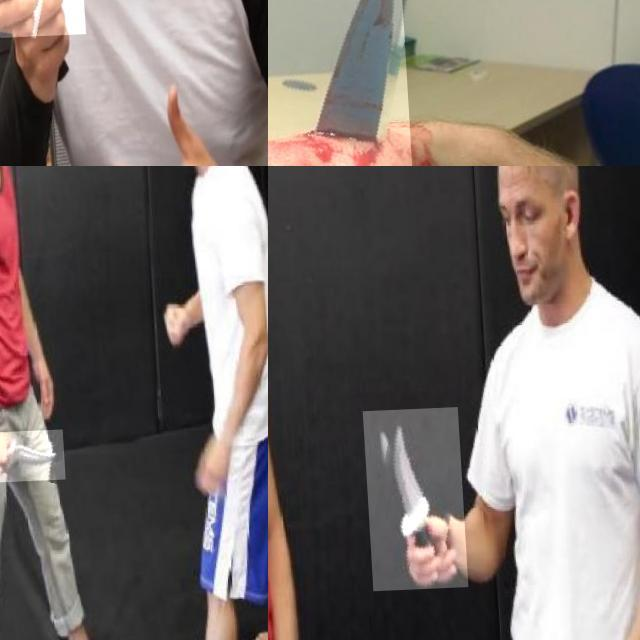-: (268, 0, 416, 166), (359, 411, 462, 594), (0, 0, 80, 142), (0, 432, 59, 484)
